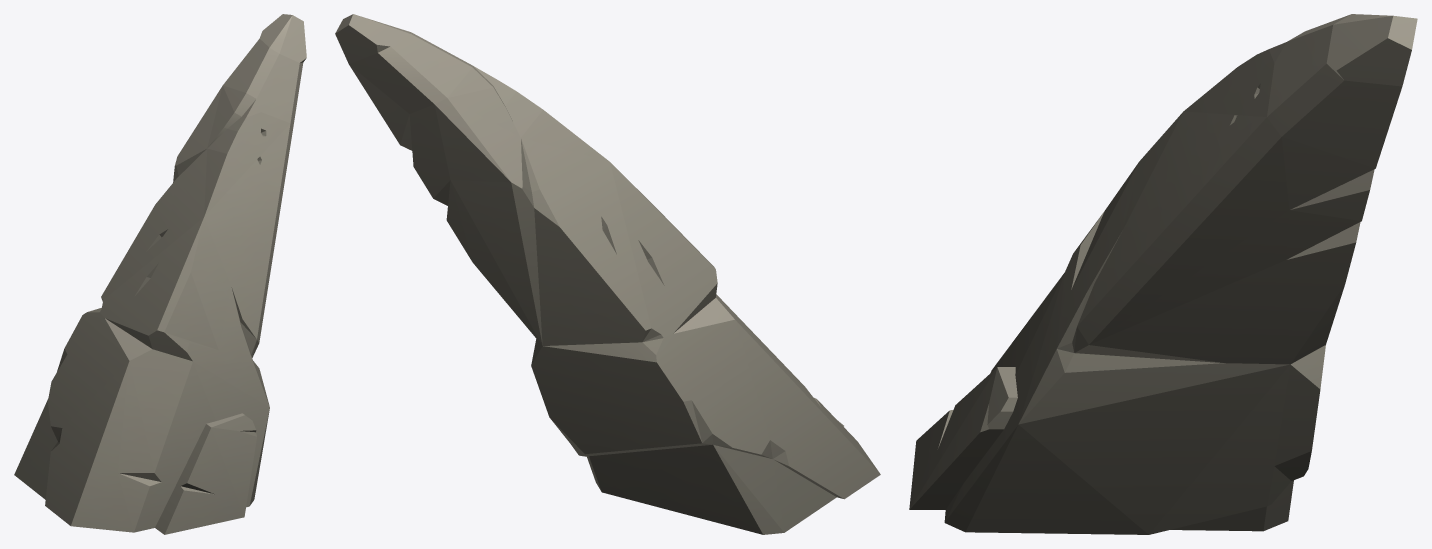
Rendered from Rock_Sharp_1A.fbx.
The picture shows the model from 3 angles, left to right: view 1: azimuth 30°, elevation 25°; view 2: azimuth 150°, elevation 25°; view 3: azimuth 270°, elevation 25°; orthographic projection. The views are drawn at different scales.
Visible parts, largest first — view 1: Rock_Sharp_1A; view 2: Rock_Sharp_1A; view 3: Rock_Sharp_1A.
Boxes of the visible parts, x1,y1,x2,y2 form: Rock_Sharp_1A: (14, 14, 306, 534); Rock_Sharp_1A: (335, 14, 880, 534); Rock_Sharp_1A: (909, 14, 1417, 534).
Size of the model in its own units: 9.19 by 9.58 by 6.74.
